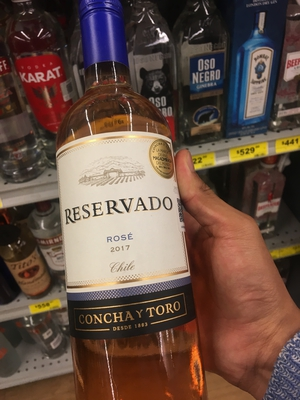reservado rose: (55, 13, 207, 397)
